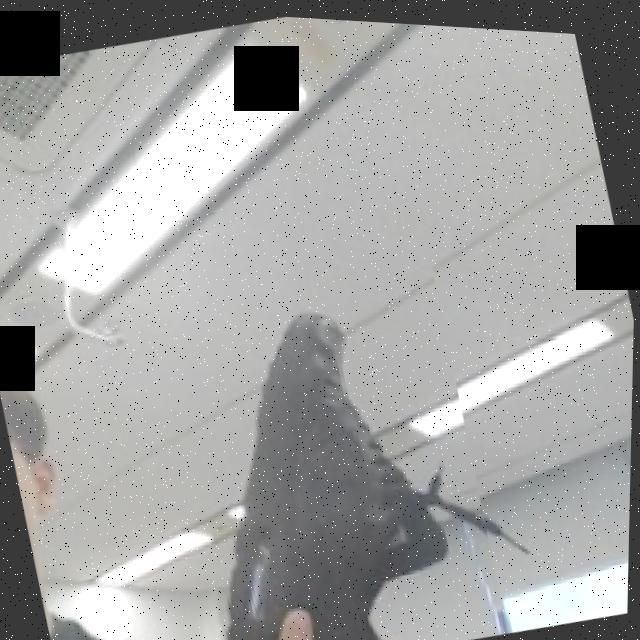shoe: (121, 189, 517, 640)
